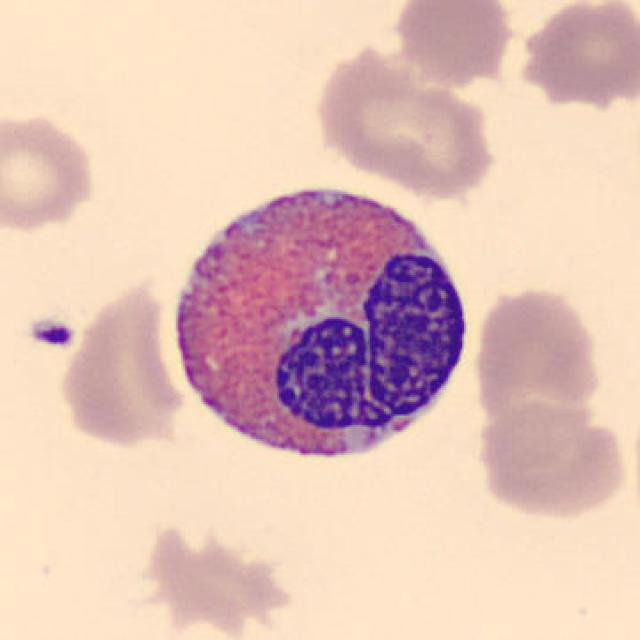Eosinophil: (156, 158, 484, 486)
Platelets: (25, 312, 80, 353)
RBC: (308, 37, 502, 203), (55, 272, 187, 453), (469, 280, 606, 441), (471, 397, 633, 525), (128, 522, 304, 636), (514, 0, 640, 115), (0, 105, 101, 236), (385, 0, 519, 86)
